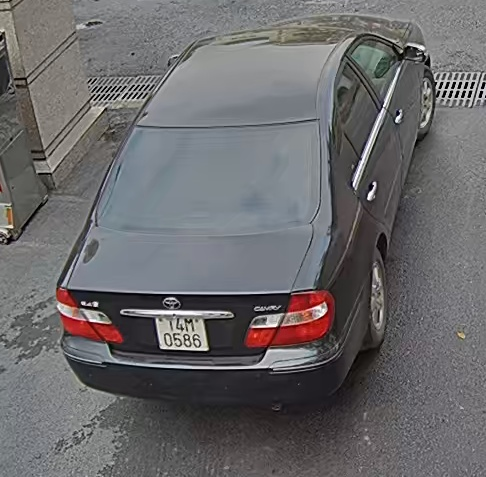vehicle plate: (150, 309, 216, 356)
